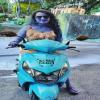motorcycles: (10, 39, 79, 99)
